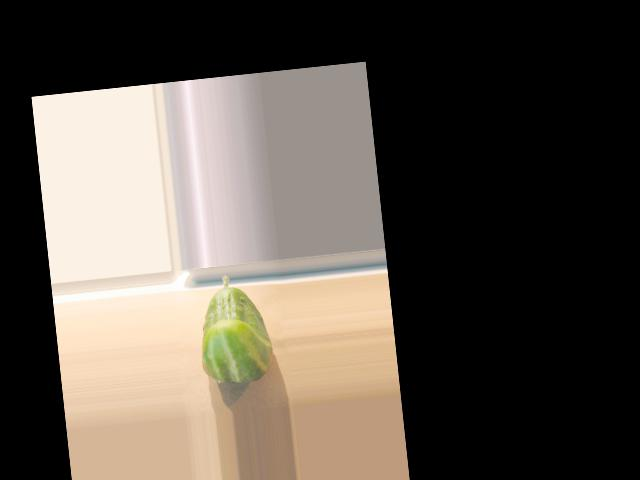cucumber: (192, 271, 274, 387)
